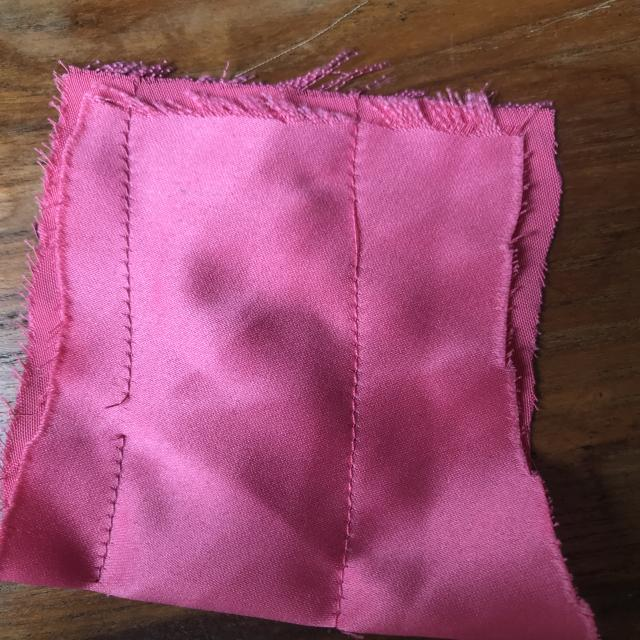broken: (103, 367, 151, 456)
good: (326, 338, 369, 453)
skip: (333, 176, 378, 305)
